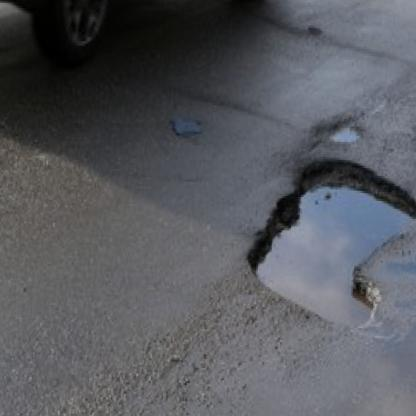pothole: (243, 153, 416, 340), (326, 120, 365, 145), (170, 114, 202, 139)
